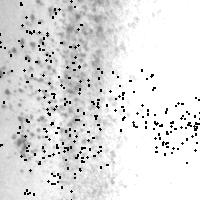pitted_surface: (1, 1, 145, 191), (39, 101, 99, 161), (38, 45, 98, 105), (96, 69, 154, 129), (48, 115, 106, 173), (24, 147, 81, 200), (0, 98, 51, 155), (20, 0, 80, 46), (154, 97, 200, 154), (0, 24, 43, 81), (153, 115, 200, 163)
